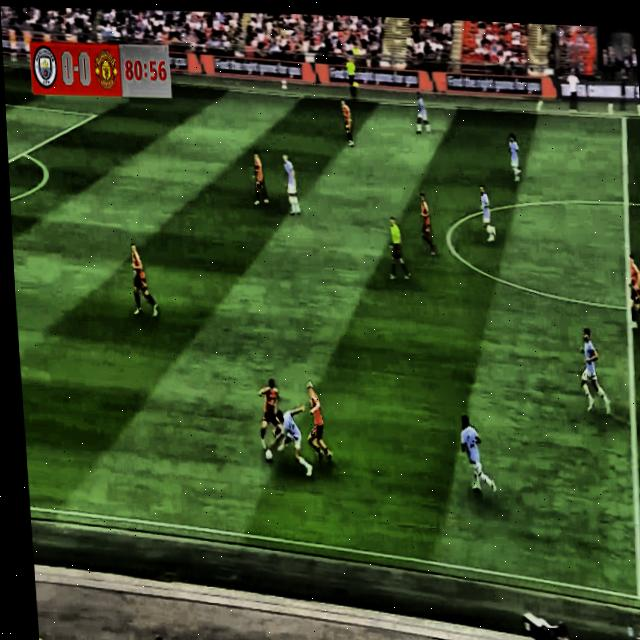ball: (263, 443, 276, 465)
players: (453, 403, 499, 503), (124, 236, 167, 325), (573, 325, 613, 417), (300, 376, 339, 468), (273, 409, 317, 480), (256, 371, 288, 448), (413, 185, 442, 255), (471, 181, 499, 245), (280, 146, 304, 215), (505, 124, 528, 193), (249, 138, 268, 212), (624, 249, 640, 331), (336, 90, 358, 149), (411, 83, 434, 137)
refree: (384, 210, 411, 291), (343, 42, 364, 100)
